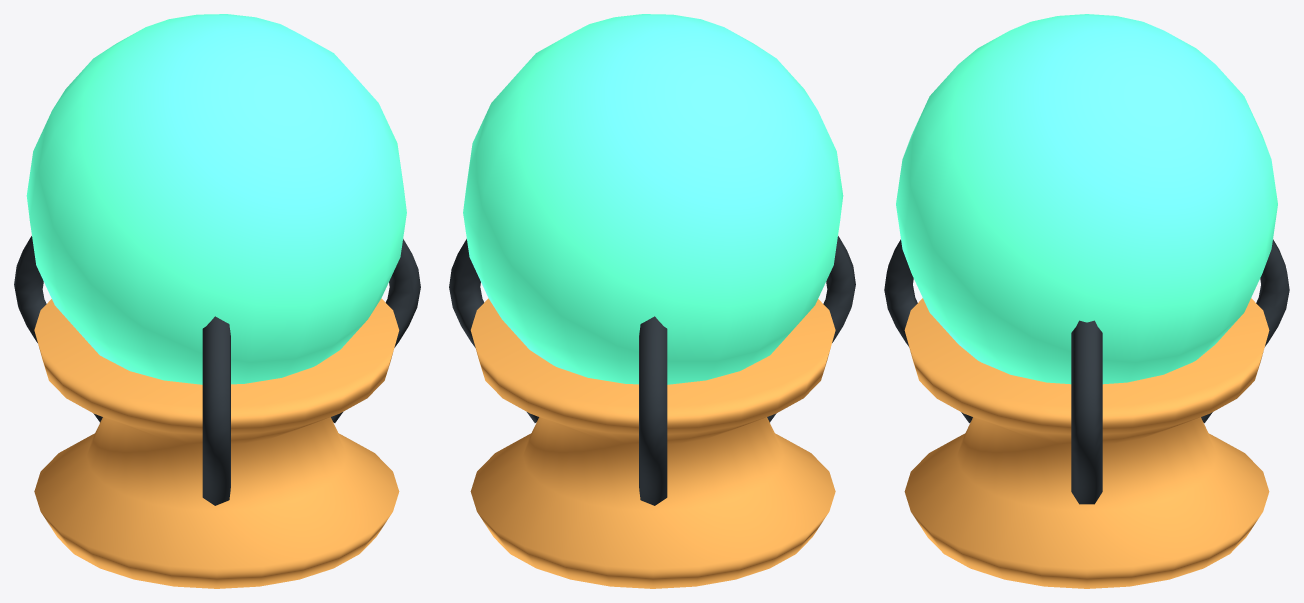
The model's file is hollowwick-halloween-crystal-gazing-orb-f1f07f8f__21609.glb.
3 renders of one model, left to right at view 1: azimuth 30°, elevation 25°; view 2: azimuth 150°, elevation 25°; view 3: azimuth 270°, elevation 25°, orthographic.
Visible parts, largest first — view 1: crystal-gazing-orb; view 2: crystal-gazing-orb; view 3: crystal-gazing-orb.
Part boxes in pixels (x1,y1,x2,y2): crystal-gazing-orb: (14,14,420,588); crystal-gazing-orb: (449,14,855,588); crystal-gazing-orb: (884,14,1289,588).
Size of the model in its own units: 0.4861 by 0.62 by 0.4668.
